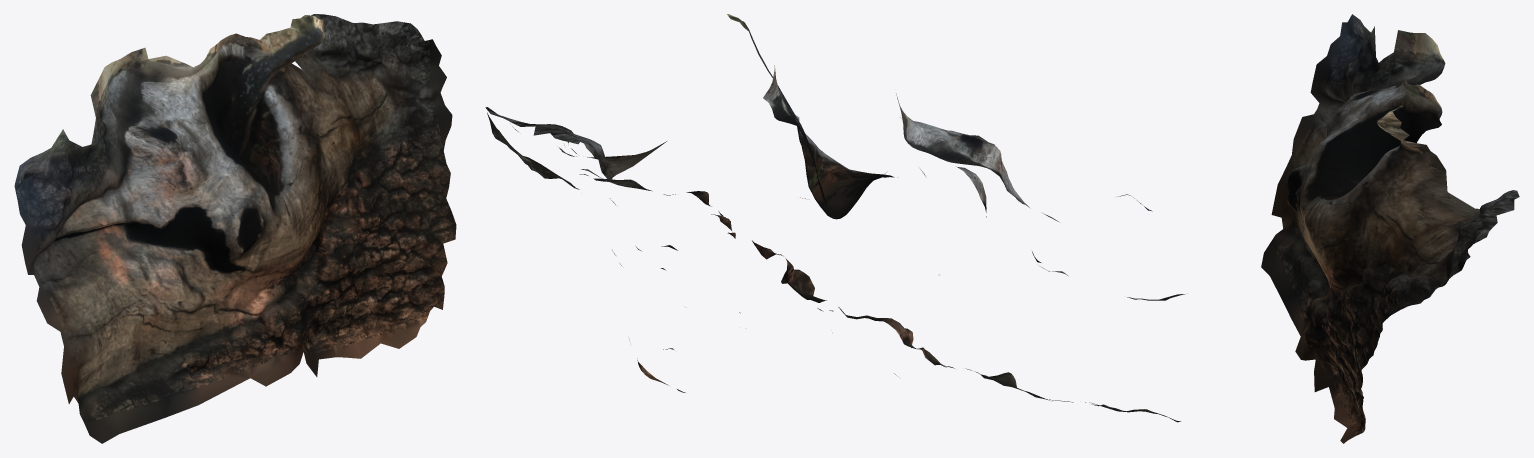
The model's file is model20_prev.glb.
The picture shows the model from 3 angles, left to right: view 1: azimuth 30°, elevation 25°; view 2: azimuth 150°, elevation 25°; view 3: azimuth 270°, elevation 25°; orthographic projection. The views are drawn at different scales.
Size of the model in its own units: 3.56 by 2.26 by 1.73.
1 material, 1 textured.
